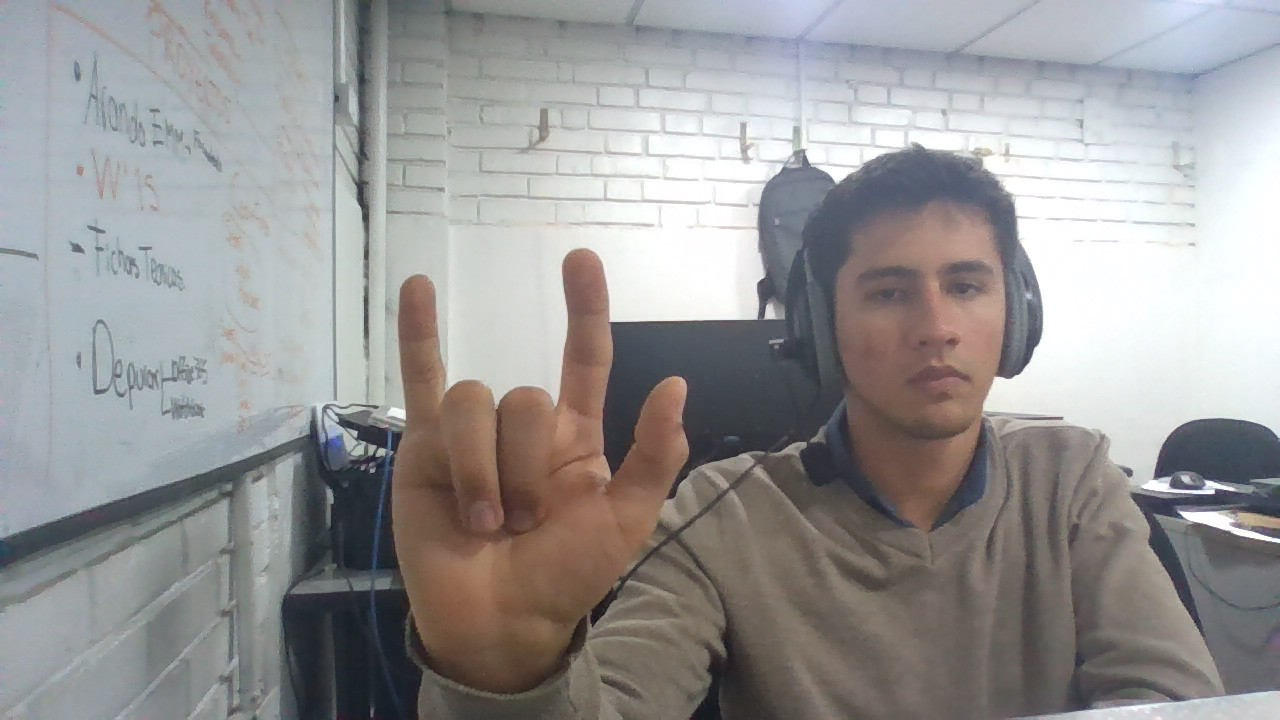te_amo: (370, 235, 694, 660)
